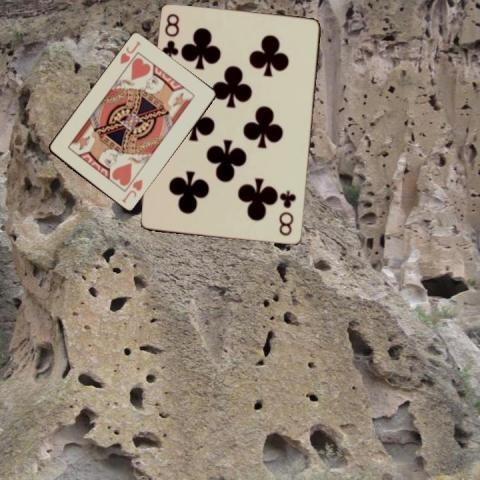8c: (160, 11, 182, 59), (277, 188, 298, 238)
Jh: (116, 39, 142, 66), (119, 176, 144, 204)
